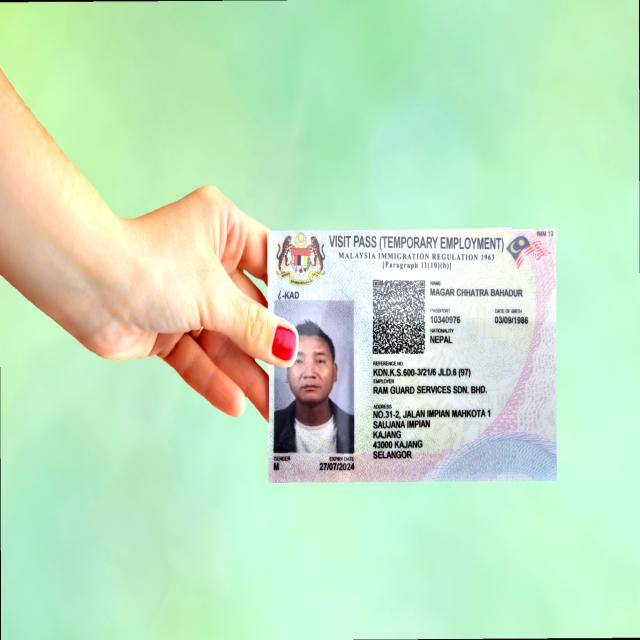ikad-temp: (266, 227, 557, 483)
